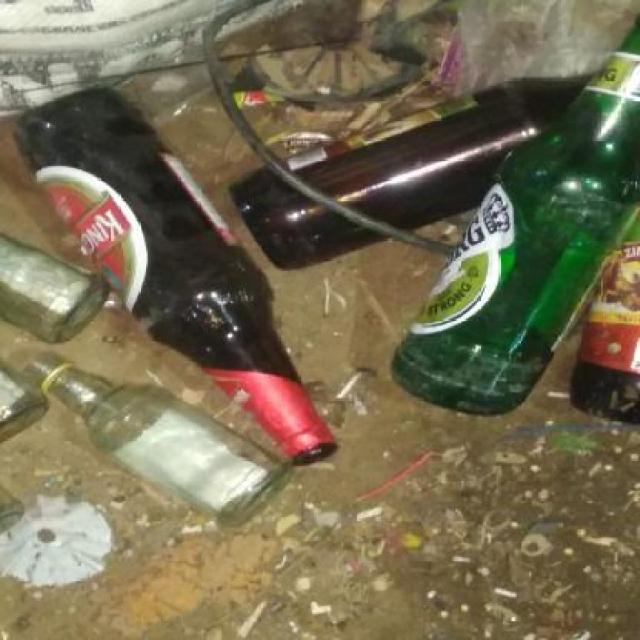garbage: (6, 68, 639, 552)
